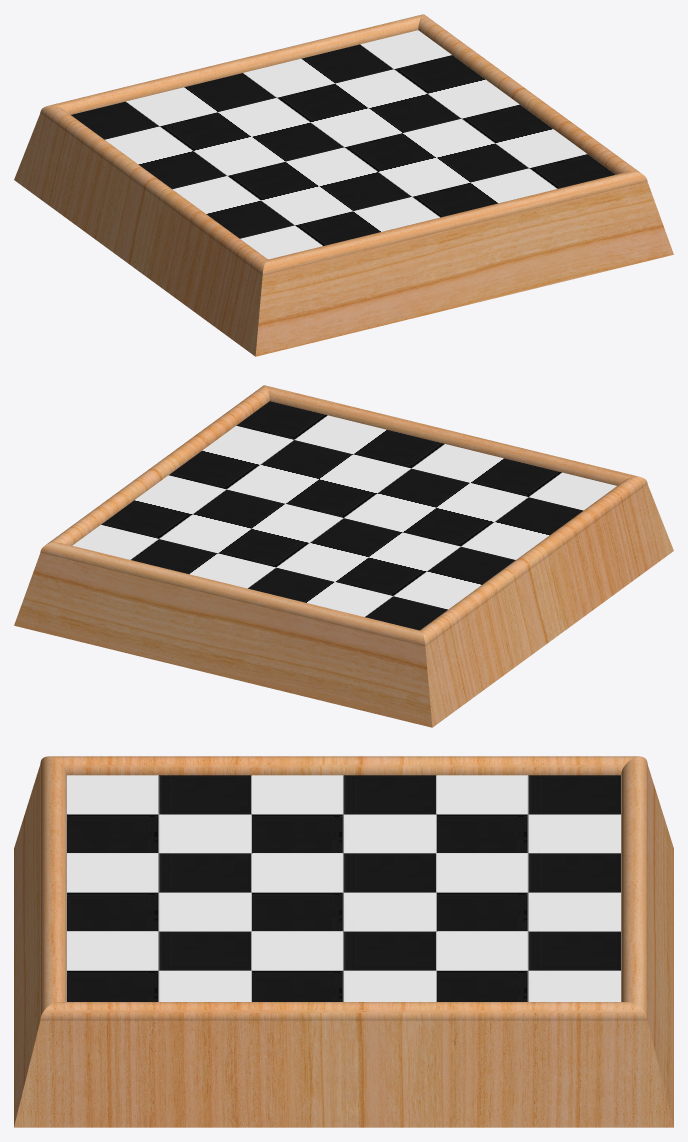
File: board.gltf
3 renders of one model, top to bottom at view 1: azimuth 30°, elevation 25°; view 2: azimuth 150°, elevation 25°; view 3: azimuth 270°, elevation 25°, orthographic. The views are drawn at different scales.
Visible parts, largest first — view 1: board; view 2: board; view 3: board.
Boxes of the visible parts, bbox=[...] form: board: bbox=[14, 14, 673, 356]; board: bbox=[14, 385, 673, 727]; board: bbox=[14, 756, 673, 1127].
Bounding box in the file's own units: 0.25 × 0.045 × 0.25.
Materials: 2 (2 with a texture image).
